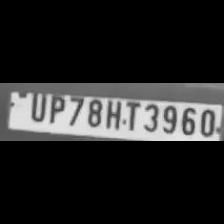0: (198, 106, 216, 138)
3: (140, 101, 158, 133)
6: (178, 104, 196, 136)
7: (66, 93, 82, 126)
8: (85, 96, 103, 128)
9: (159, 104, 177, 134)
H: (104, 98, 122, 130)
P: (46, 93, 64, 125)
T: (124, 100, 139, 132)
U: (26, 92, 46, 122)
